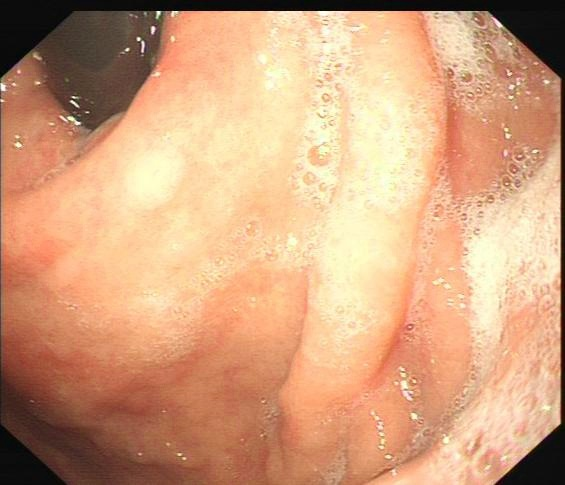Polyp: (126, 155, 190, 209)
